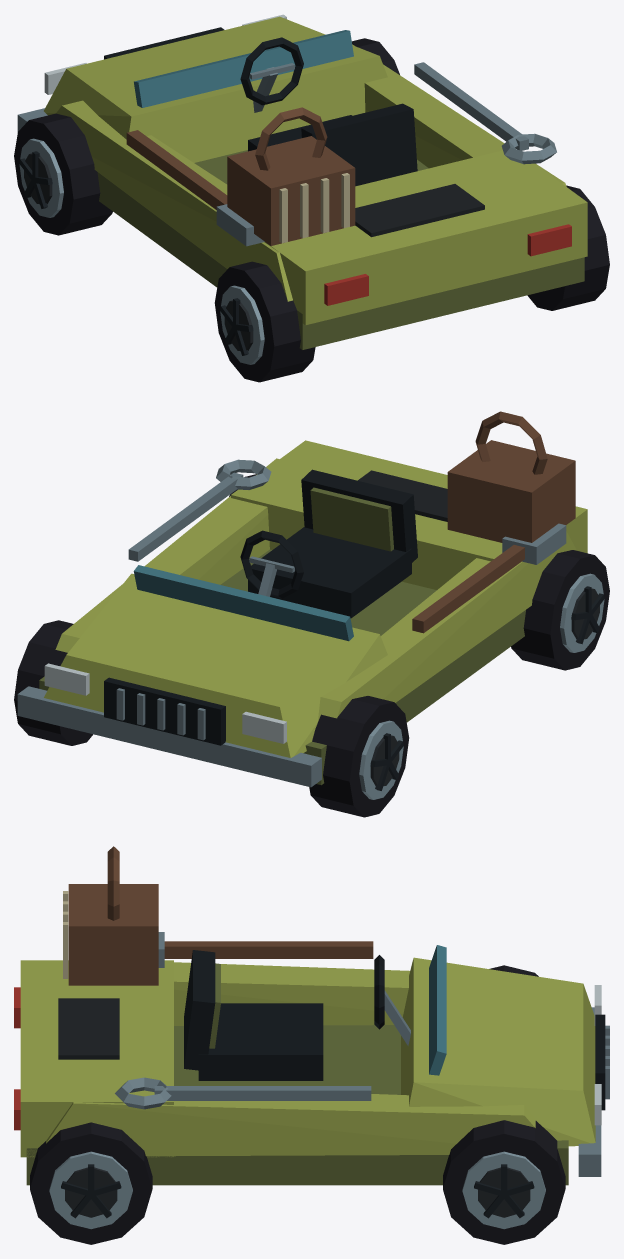
Rendered from kart.glb.
The picture shows the model from 3 angles, top to bottom: view 1: azimuth 30°, elevation 25°; view 2: azimuth 150°, elevation 25°; view 3: azimuth 270°, elevation 25°; orthographic projection. The views are drawn at different scales.
Visible parts, largest first — view 1: identity-sedan-sedan-road-car-body, identity-sedan-motif-basket, identity-sedan-driver-cockpit, wheel-front-left, wheel-rear-left, identity-sedan-motif-tools, wheel-rear-right, wheel-front-right; view 2: identity-sedan-sedan-road-car-body, identity-sedan-driver-cockpit, identity-sedan-motif-basket, wheel-front-left, wheel-rear-left, identity-sedan-motif-tools, wheel-front-right; view 3: identity-sedan-sedan-road-car-body, identity-sedan-driver-cockpit, wheel-front-right, wheel-rear-right, identity-sedan-motif-basket, identity-sedan-motif-tools.
Part boxes in pixels (x1=…): identity-sedan-sedan-road-car-body: x1=17, y1=14, x2=587, y2=349; identity-sedan-motif-basket: x1=227, y1=107, x2=355, y2=245; identity-sedan-driver-cockpit: x1=240, y1=37, x2=417, y2=186; wheel-front-left: x1=14, y1=113, x2=112, y2=235; wheel-rear-left: x1=214, y1=261, x2=315, y2=382; identity-sedan-motif-tools: x1=126, y1=62, x2=556, y2=246; wheel-rear-right: x1=527, y1=185, x2=609, y2=310; wheel-front-right: x1=352, y1=38, x2=399, y2=74; identity-sedan-sedan-road-car-body: x1=17, y1=440, x2=587, y2=787; identity-sedan-driver-cockpit: x1=240, y1=469, x2=417, y2=618; identity-sedan-motif-basket: x1=447, y1=411, x2=575, y2=542; wheel-front-left: x1=309, y1=696, x2=409, y2=817; wheel-rear-left: x1=511, y1=550, x2=609, y2=670; identity-sedan-motif-tools: x1=128, y1=459, x2=566, y2=633; wheel-front-right: x1=14, y1=620, x2=92, y2=745; identity-sedan-sedan-road-car-body: x1=14, y1=945, x2=609, y2=1185; identity-sedan-driver-cockpit: x1=184, y1=950, x2=410, y2=1080; wheel-front-right: x1=443, y1=1120, x2=565, y2=1244; wheel-rear-right: x1=30, y1=1122, x2=152, y2=1244; identity-sedan-motif-basket: x1=63, y1=846, x2=158, y2=985; identity-sedan-motif-tools: x1=115, y1=932, x2=373, y2=1109.
Size of the model in its own units: 2.07 by 1.37 by 2.92.
